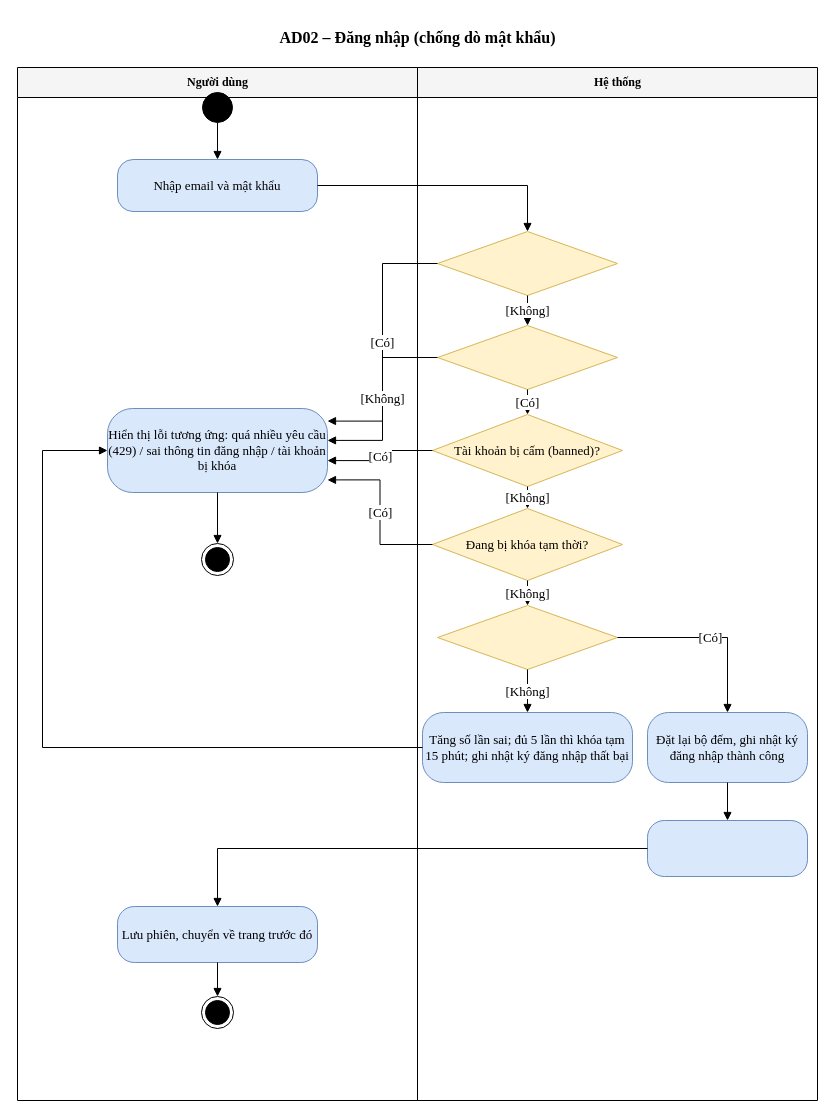
This 835x1118 diagram has some shape labels left out. Here are the shapes that lost their labels. From the top down, the centre of each, then its label:
point (527, 263): Vượt giới hạn tần suất?
point (527, 357): Tài khoản tồn tại?
point (527, 637): Mật khẩu đúng?
point (727, 848): Cấp access token và refresh token
